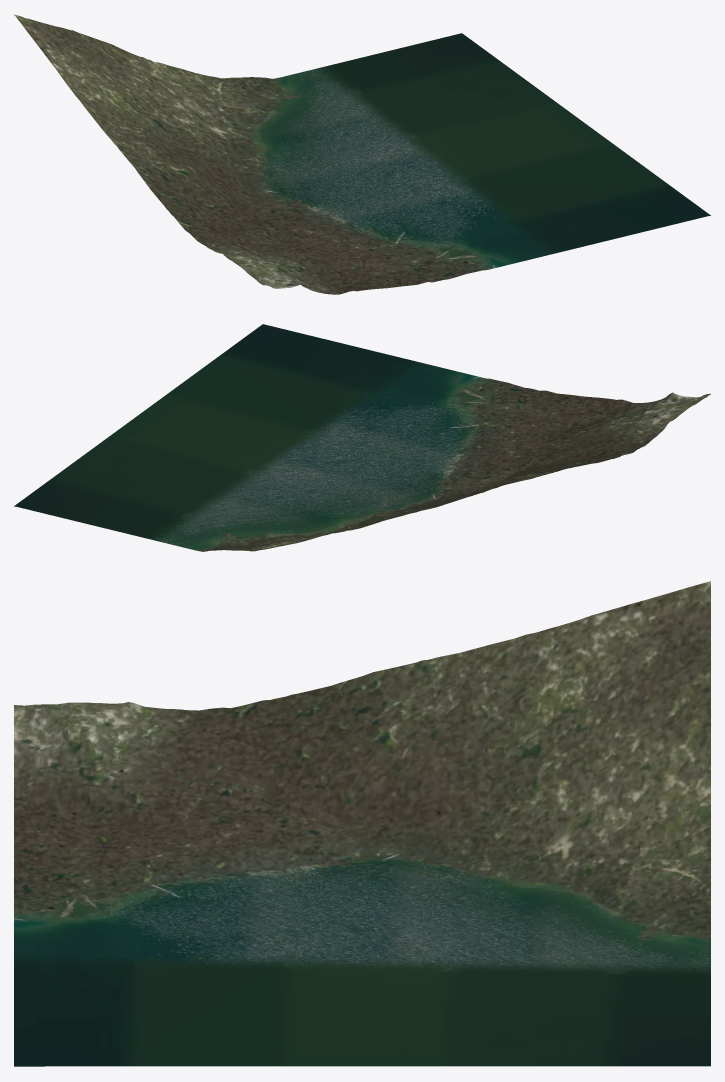
3 views of the same model, one above another, from view 1: azimuth 30°, elevation 25°; view 2: azimuth 150°, elevation 25°; view 3: azimuth 270°, elevation 25° (orthographic). The views are drawn at different scales.
Bounding box in the file's own units: 500 × 138 × 481.
Materials: 1 (1 with a texture image).
